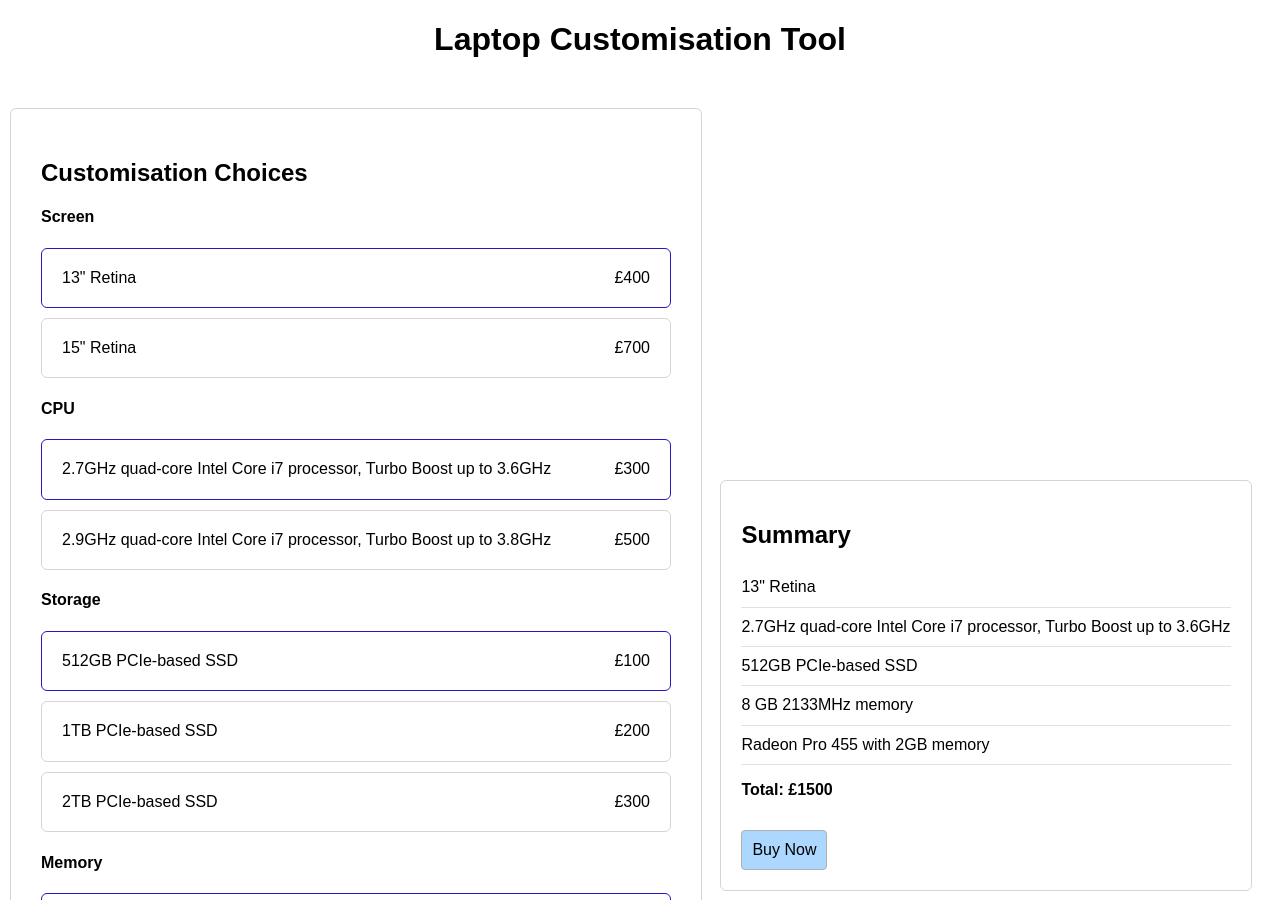
it: Home page › Item selected reflects the summary › screen
Click the option "15\" Retina £700": {"x": 99, "y": 348} [62,339,650,356]
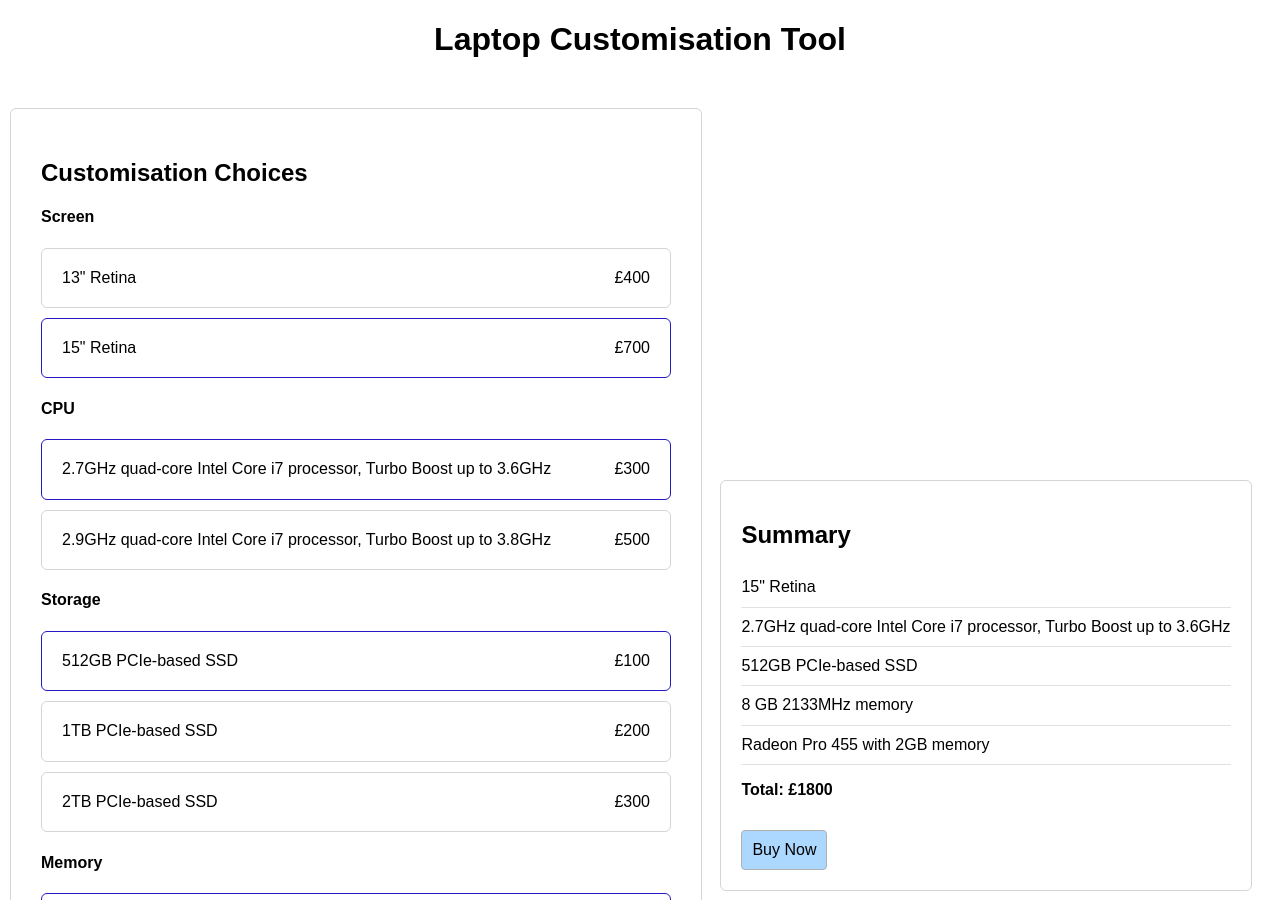
Expected: the element with test id "spec-summary" is shown, [720,480,1252,891]
Now the list item "15\" Retina" is shown, box [741,568,1230,608]
